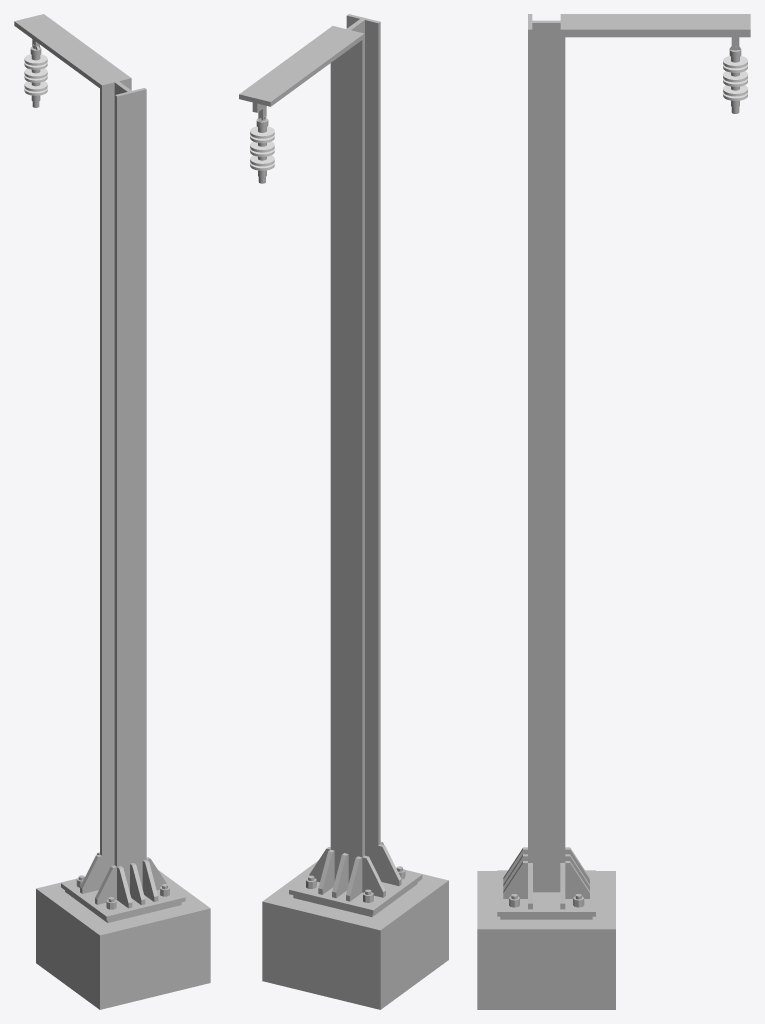
The model's file is pillar1_center_wire.obj.
3 views of the same model, side by side, from view 1: azimuth 30°, elevation 25°; view 2: azimuth 150°, elevation 25°; view 3: azimuth 270°, elevation 25° (orthographic). The views are drawn at different scales.
Parts seen in each view (by area): view 1: 立方体.023, 立方体.022, 立方体.026, 立方体.021, 立方体.030, 立方体.014, 立方体.015, 立方体.020; view 2: 立方体.023, 立方体.022, 立方体.026, 立方体.021, 立方体.030, 立方体.015, 立方体.014, 立方体.017, 立方体.016, 立方体.018; view 3: 立方体.023, 立方体.022, 立方体.026, 立方体.021, 立方体.030, 立方体.018.
Part boxes in pixels (x1=…): 立方体.023: x1=100, y1=77, x2=146, y2=891; 立方体.022: x1=36, y1=870, x2=210, y2=1009; 立方体.026: x1=14, y1=14, x2=129, y2=87; 立方体.021: x1=61, y1=879, x2=185, y2=922; 立方体.030: x1=24, y1=46, x2=47, y2=101; 立方体.014: x1=80, y1=854, x2=102, y2=893; 立方体.015: x1=95, y1=865, x2=116, y2=904; 立方体.020: x1=142, y1=859, x2=158, y2=901; 立方体.023: x1=330, y1=14, x2=380, y2=883; 立方体.022: x1=262, y1=860, x2=448, y2=1009; 立方体.026: x1=239, y1=27, x2=362, y2=112; 立方体.021: x1=289, y1=870, x2=422, y2=916; 立方体.030: x1=250, y1=118, x2=274, y2=177; 立方体.015: x1=378, y1=844, x2=401, y2=885; 立方体.014: x1=362, y1=855, x2=385, y2=897; 立方体.017: x1=346, y1=856, x2=362, y2=901; 立方体.016: x1=332, y1=853, x2=348, y2=898; 立方体.018: x1=318, y1=849, x2=334, y2=894; 立方体.023: x1=528, y1=14, x2=565, y2=892; 立方体.022: x1=477, y1=871, x2=615, y2=1009; 立方体.026: x1=565, y1=14, x2=750, y2=37; 立方体.021: x1=497, y1=870, x2=595, y2=919; 立方体.030: x1=723, y1=46, x2=747, y2=107; 立方体.018: x1=565, y1=861, x2=589, y2=898.
Bounding box in the file's own units: 1.12 × 8.56 × 2.21.
